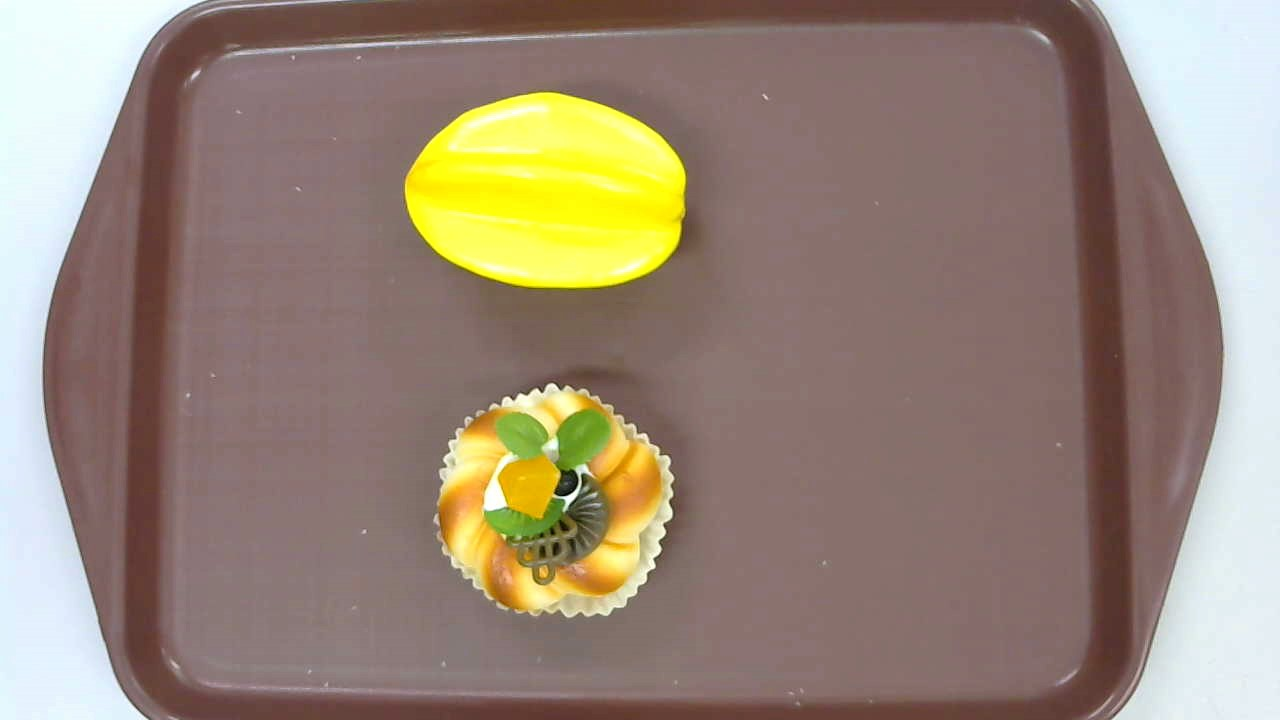fruit tart: (433, 381, 677, 619)
star fruit: (403, 91, 685, 292)
